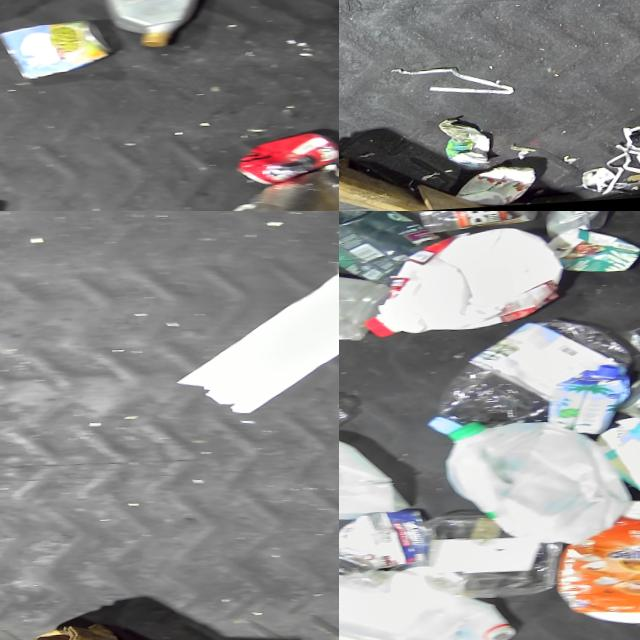can: (218, 135, 339, 197), (0, 23, 110, 87), (207, 170, 339, 211), (442, 171, 531, 211), (608, 380, 640, 445), (615, 321, 640, 381)
milk_jug: (435, 419, 629, 553), (355, 230, 566, 341), (339, 565, 510, 640), (339, 427, 407, 530), (339, 257, 389, 355)
non_white_jug: (93, 0, 203, 60), (589, 417, 640, 527)
plastic_bottle: (418, 320, 631, 439)
